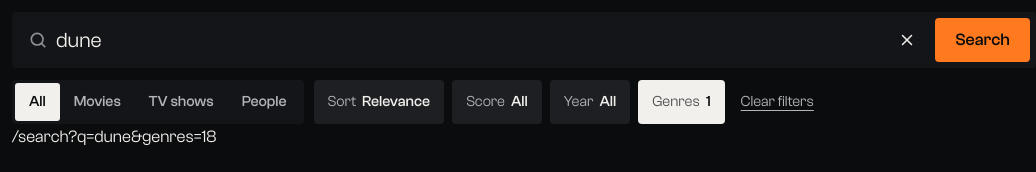
Search filters › applies the type straight away and drops genres
Step 1. Click the button "People" → [264, 102], box [228,83,301,121]
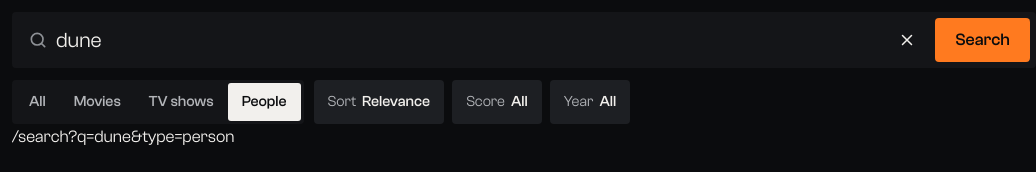
Expected: the text with test id "location" reads "/search?q=dune&type=person", [12,127,234,146]
